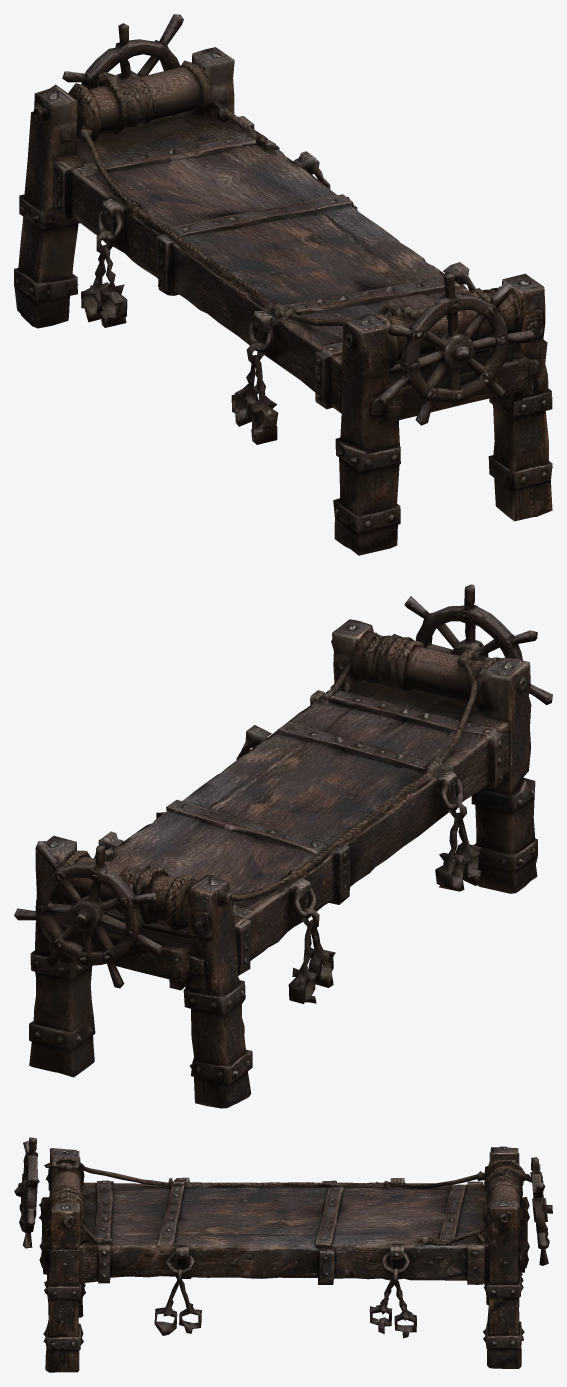
The model's file is rack.glb.
3 renders of one model, top to bottom at view 1: azimuth 30°, elevation 25°; view 2: azimuth 150°, elevation 25°; view 3: azimuth 270°, elevation 25°, orthographic. The views are drawn at different scales.
Parts seen in each view (by area): view 1: rack; view 2: rack; view 3: rack.
Boxes of the visible parts, x1,y1,x2,y2 form: rack: (14,14,552,555); rack: (14,584,552,1108); rack: (14,1137,552,1372).
Bounding box in the file's own units: 1.1 × 1.2 × 3.
Materials: 1 (1 with a texture image).
